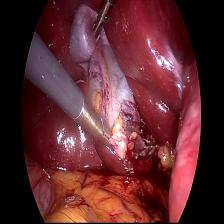Grasper: (96, 114, 121, 149), (90, 5, 107, 42)
